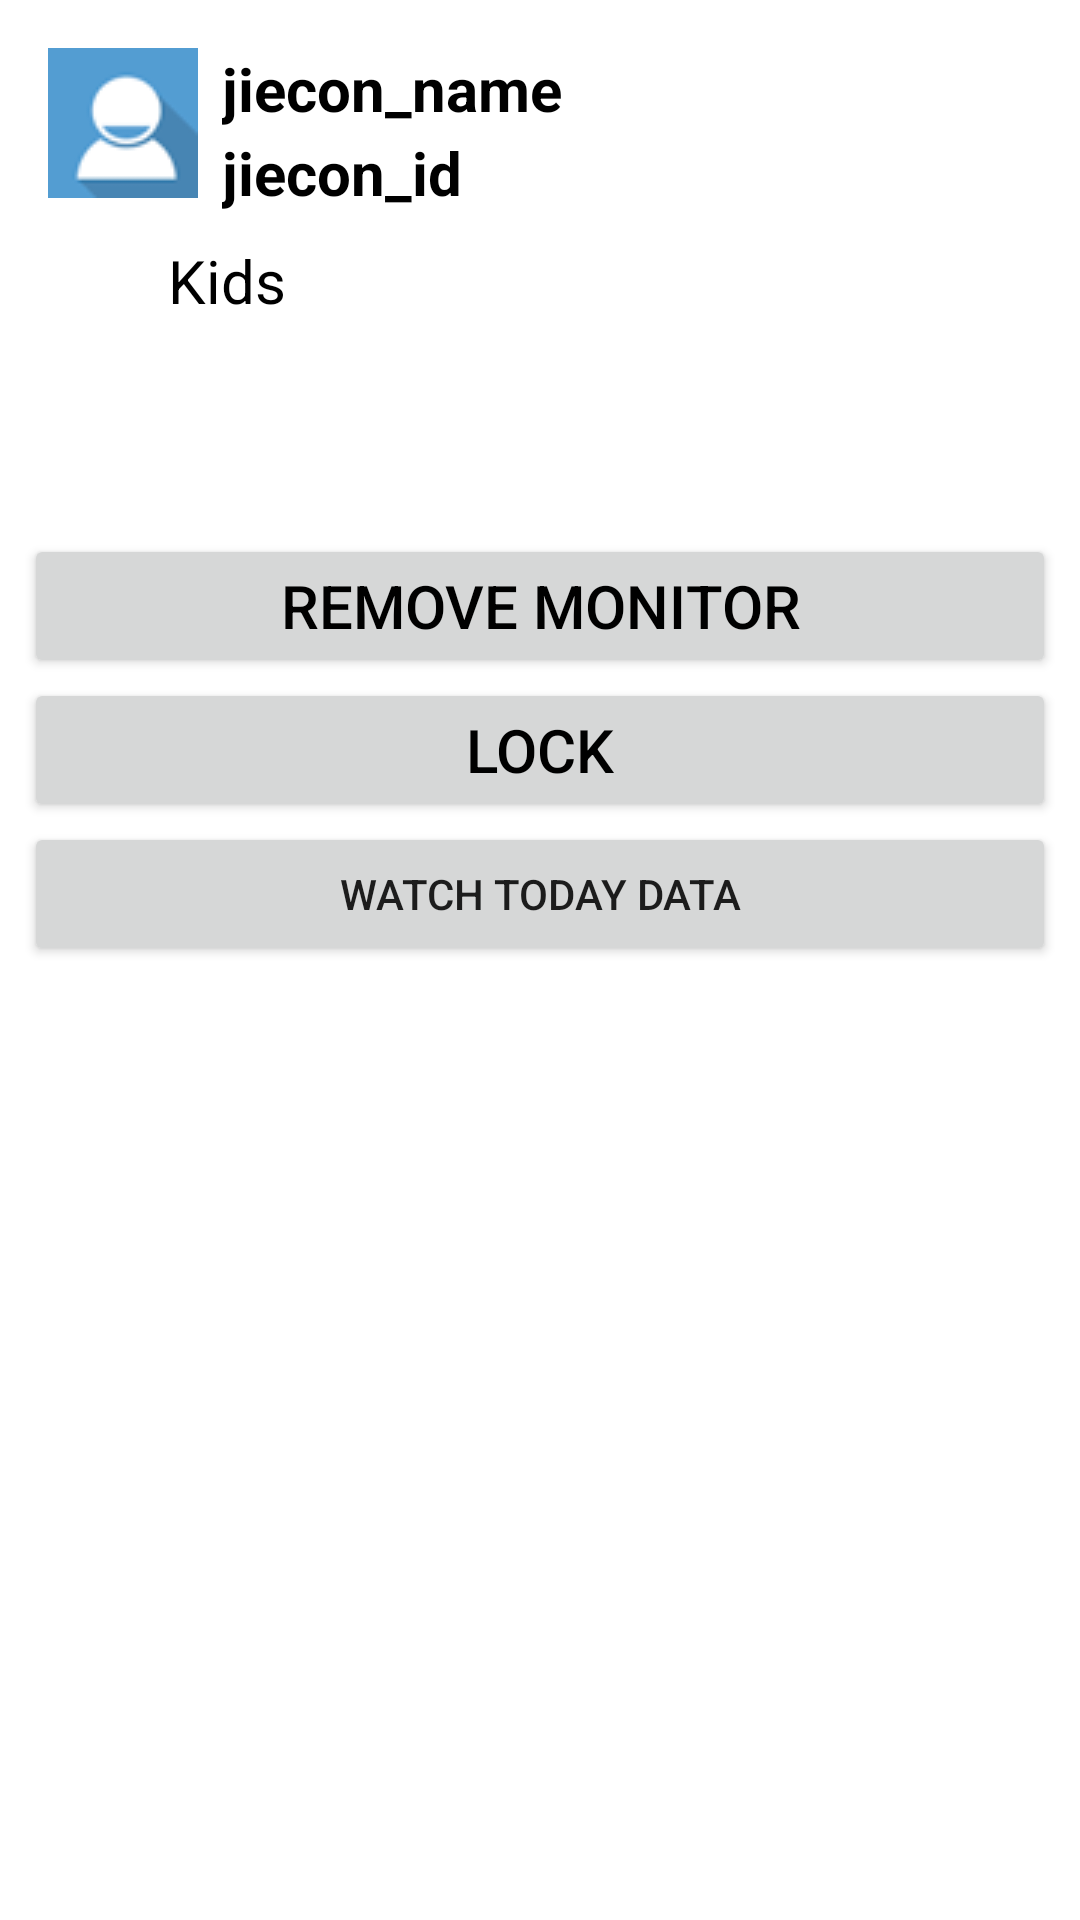

Icon click points for this 1080px x 1920px phone screenshot, format (x=x, y=y):
contact: (x=123, y=123)
